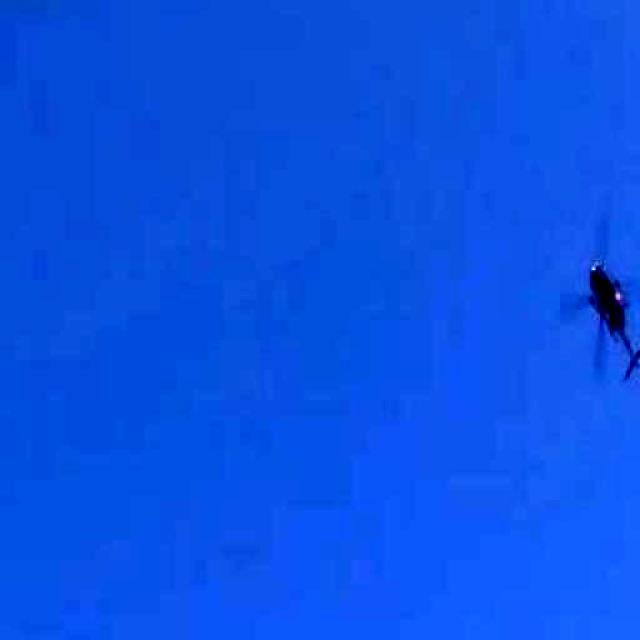drone: (474, 128, 640, 479)
